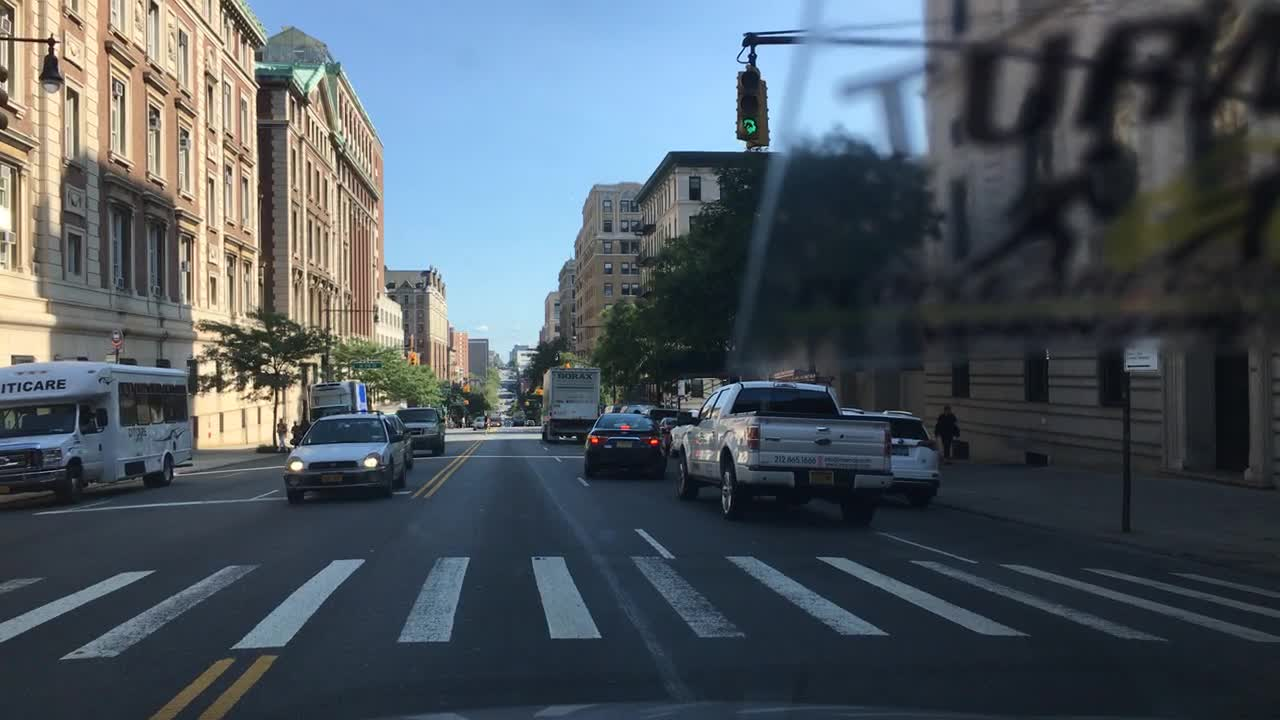bus: (0, 363, 197, 502), (302, 379, 373, 425)
car: (286, 416, 410, 503), (842, 402, 941, 509), (581, 409, 672, 470), (375, 411, 415, 473), (397, 406, 446, 452), (668, 415, 704, 454), (655, 411, 676, 438), (486, 414, 504, 428), (472, 415, 487, 429)
person: (932, 406, 961, 457), (272, 415, 288, 450), (290, 422, 302, 446)
traffic light: (746, 80, 769, 149), (737, 63, 758, 138)
traffic sign: (1125, 341, 1159, 372), (346, 360, 384, 372), (108, 324, 125, 347)
truck: (680, 381, 891, 530), (538, 365, 604, 442)
